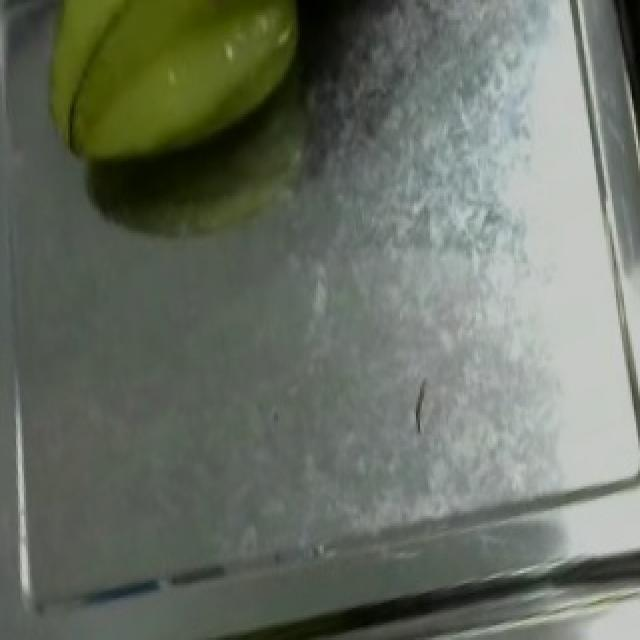fruit: (26, 0, 320, 176)
